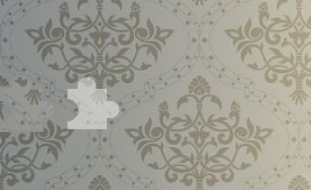target: (62, 77, 121, 132)
